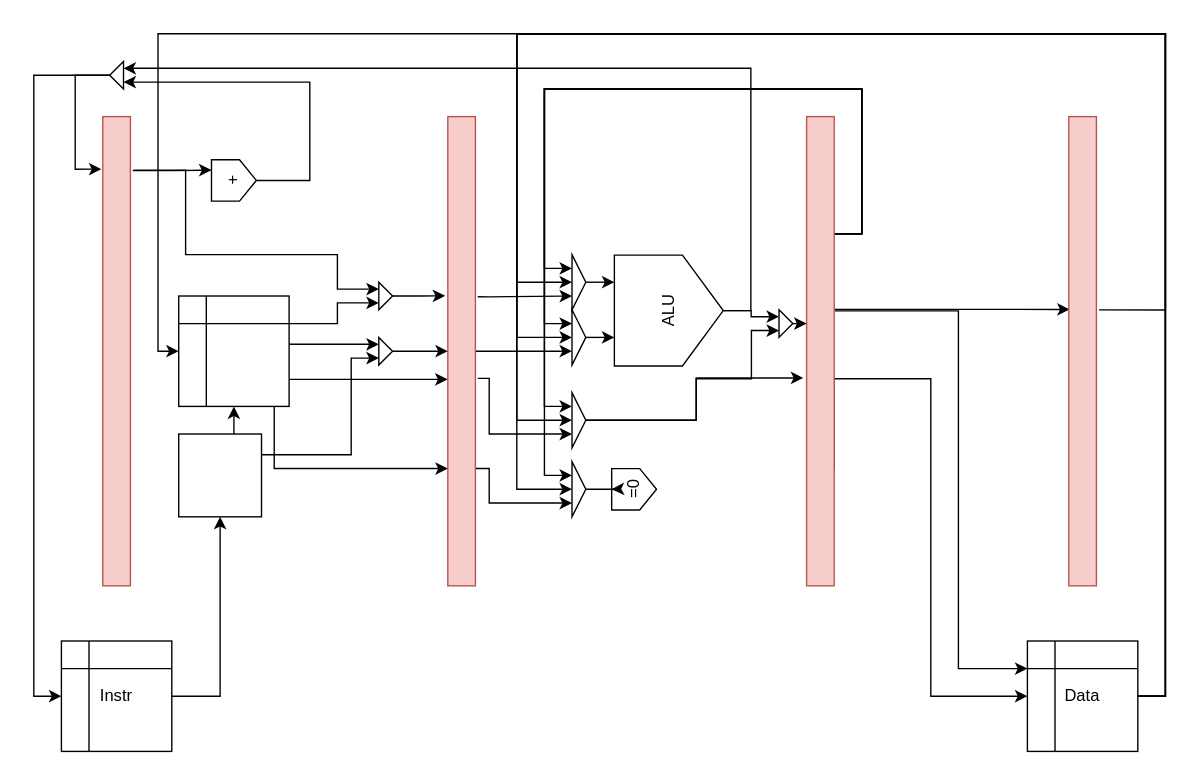
Some shapes in this 1201 by 776 pixel diagram are drawn without their labels. Each missing label, with the box of its shape:
Decode: (177, 433, 262, 517)
regfile: (177, 295, 289, 406)
